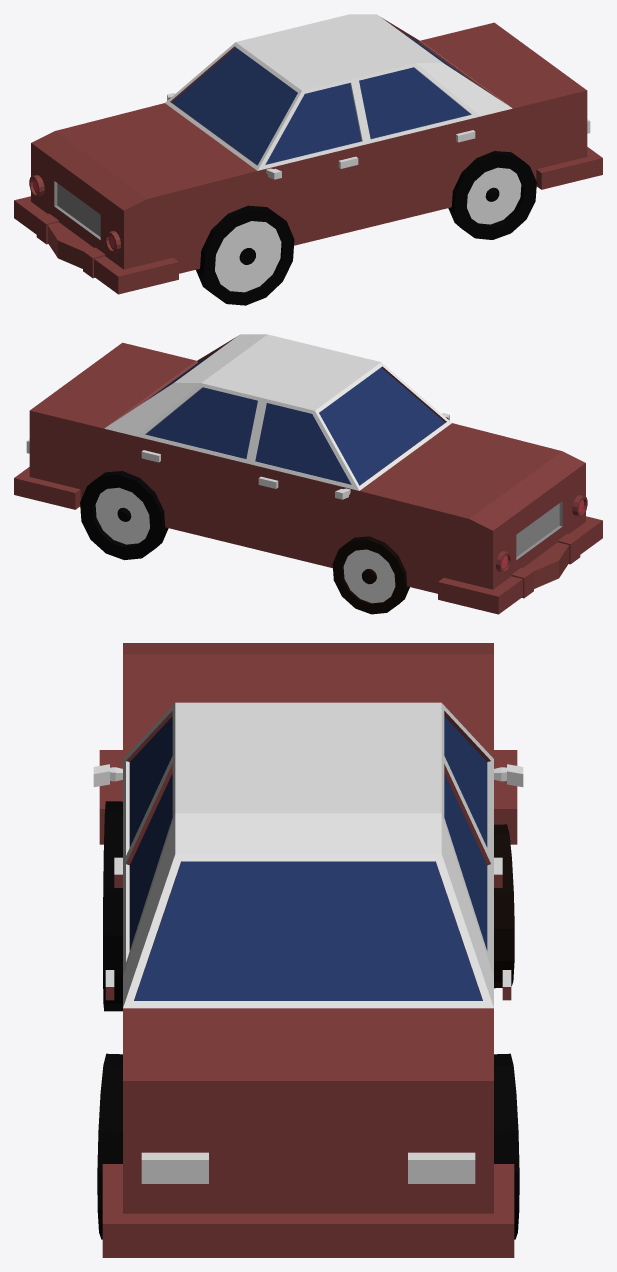
The model's file is car.fbx.
The picture shows the model from 3 angles, top to bottom: view 1: azimuth 30°, elevation 25°; view 2: azimuth 150°, elevation 25°; view 3: azimuth 270°, elevation 25°; orthographic projection. The views are drawn at different scales.
Visible parts, largest first — view 1: Cube, Cylinder, Cylinder.001; view 2: Cube, Cylinder.001, Cylinder.002; view 3: Cube, Cylinder.001, Cylinder, Cylinder.002.
Part boxes in pixels (bbox=[...]): Cube: bbox=[14, 14, 602, 294]; Cylinder: bbox=[196, 205, 294, 305]; Cylinder.001: bbox=[448, 151, 536, 239]; Cube: bbox=[14, 334, 602, 614]; Cylinder.001: bbox=[80, 471, 168, 560]; Cylinder.002: bbox=[332, 536, 409, 614]; Cube: bbox=[93, 643, 523, 1257]; Cylinder.001: bbox=[97, 1053, 519, 1239]; Cylinder: bbox=[103, 801, 122, 1011]; Cylinder.002: bbox=[494, 824, 514, 988].
Size of the model in its own units: 776 by 276 by 293.
